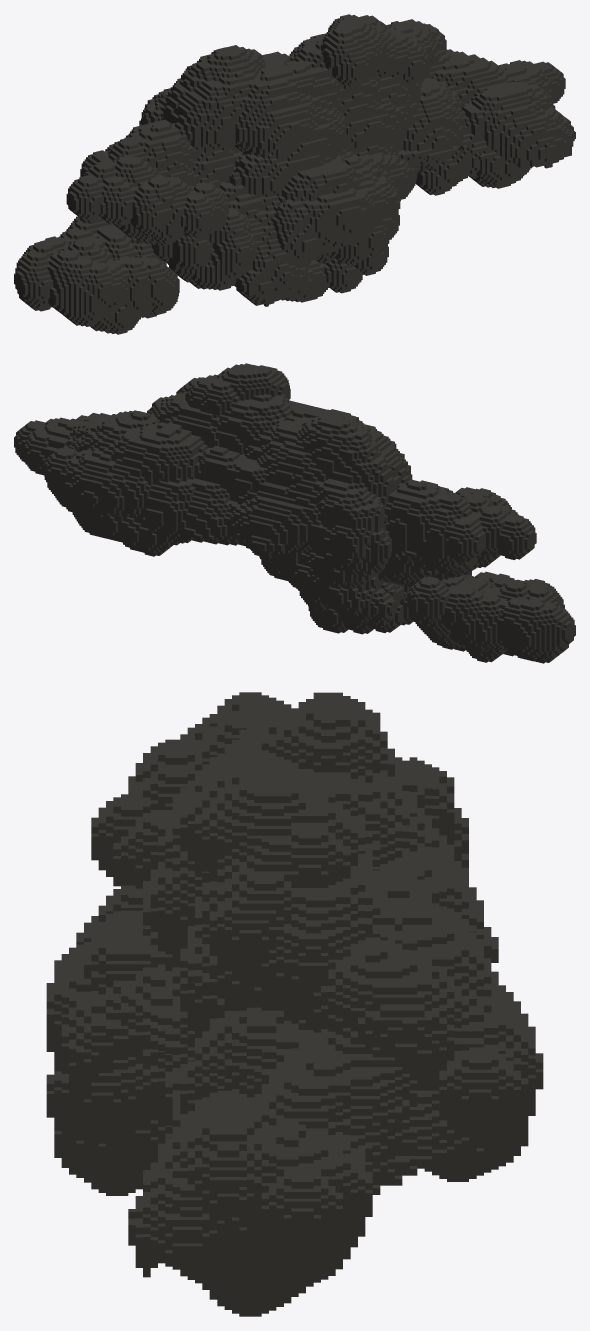
File: forest1.3-5.obj
3 renders of one model, top to bottom at view 1: azimuth 30°, elevation 25°; view 2: azimuth 150°, elevation 25°; view 3: azimuth 270°, elevation 25°, orthographic. The views are drawn at different scales.
Bounding box in the file's own units: 17 × 7.1 × 6.7.
Materials: 1 (1 with a texture image).
